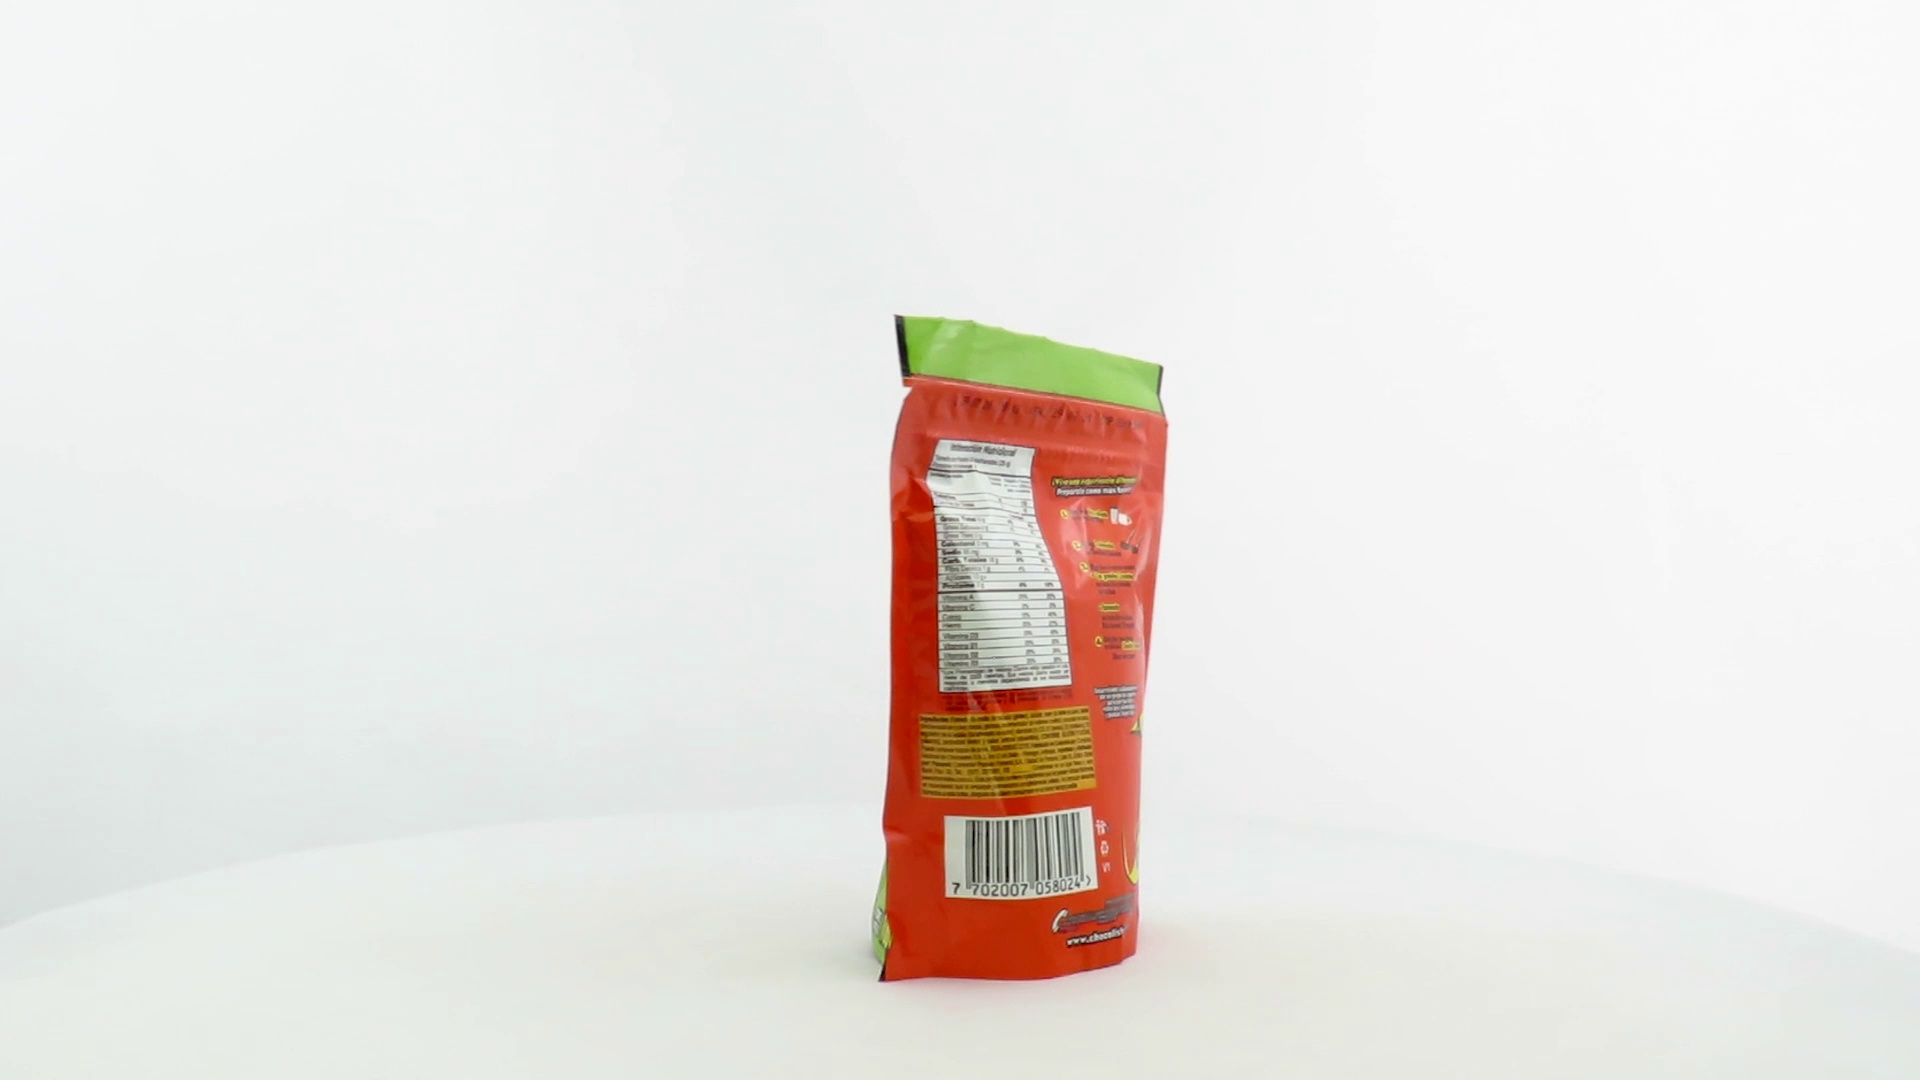COL0170102DYP10000: (865, 309, 1174, 989)
